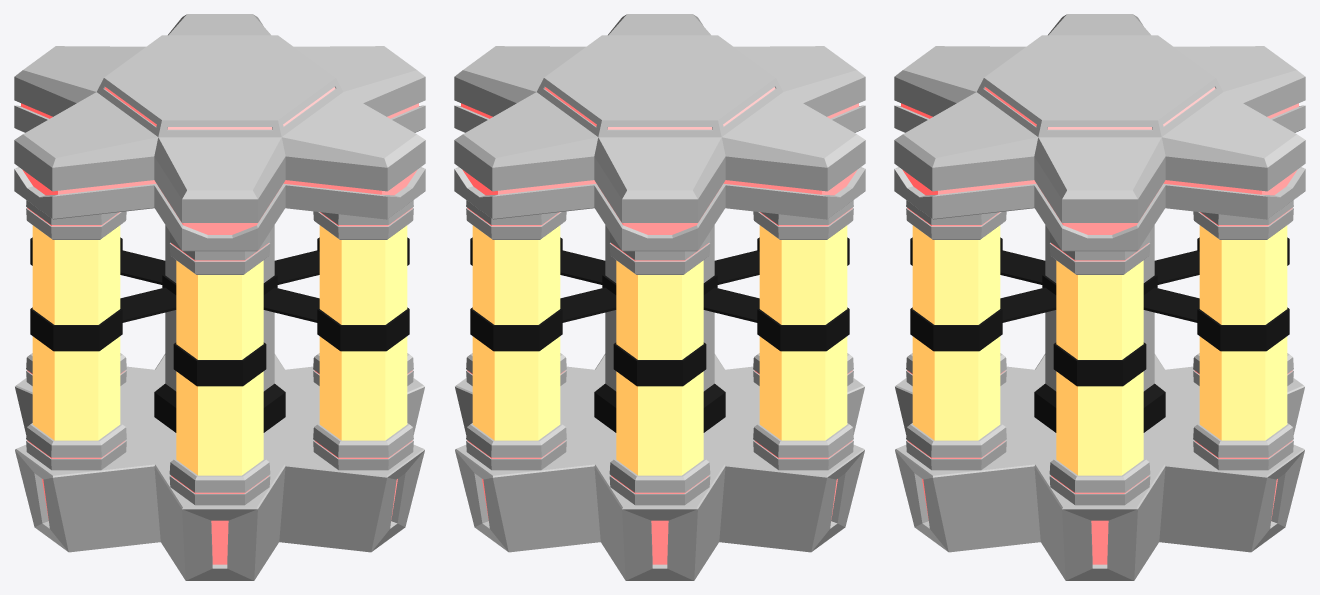
Rendered from Esplosivo.fbx.
3 renders of one model, left to right at view 1: azimuth 30°, elevation 25°; view 2: azimuth 150°, elevation 25°; view 3: azimuth 270°, elevation 25°, orthographic.
Visible parts, largest first — view 1: Cylinder, Cylinder.001, Cylinder.003, Cylinder.002; view 2: Cylinder, Cylinder.001, Cylinder.003, Cylinder.002; view 3: Cylinder, Cylinder.001, Cylinder.003, Cylinder.002.
Boxes of the visible parts, x1,y1,x2,y2 form: Cylinder: [14, 14, 425, 580]; Cylinder.001: [26, 200, 413, 505]; Cylinder.003: [30, 237, 409, 386]; Cylinder.002: [154, 225, 285, 432]; Cylinder: [454, 14, 865, 580]; Cylinder.001: [466, 200, 853, 505]; Cylinder.003: [470, 237, 849, 386]; Cylinder.002: [594, 225, 725, 432]; Cylinder: [894, 14, 1305, 580]; Cylinder.001: [906, 200, 1293, 505]; Cylinder.003: [910, 237, 1289, 386]; Cylinder.002: [1034, 225, 1165, 432].
Bounding box in the file's own units: 1.97 × 1.88 × 2.12.
